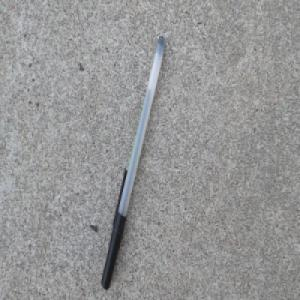Pen: (100, 32, 167, 291)
